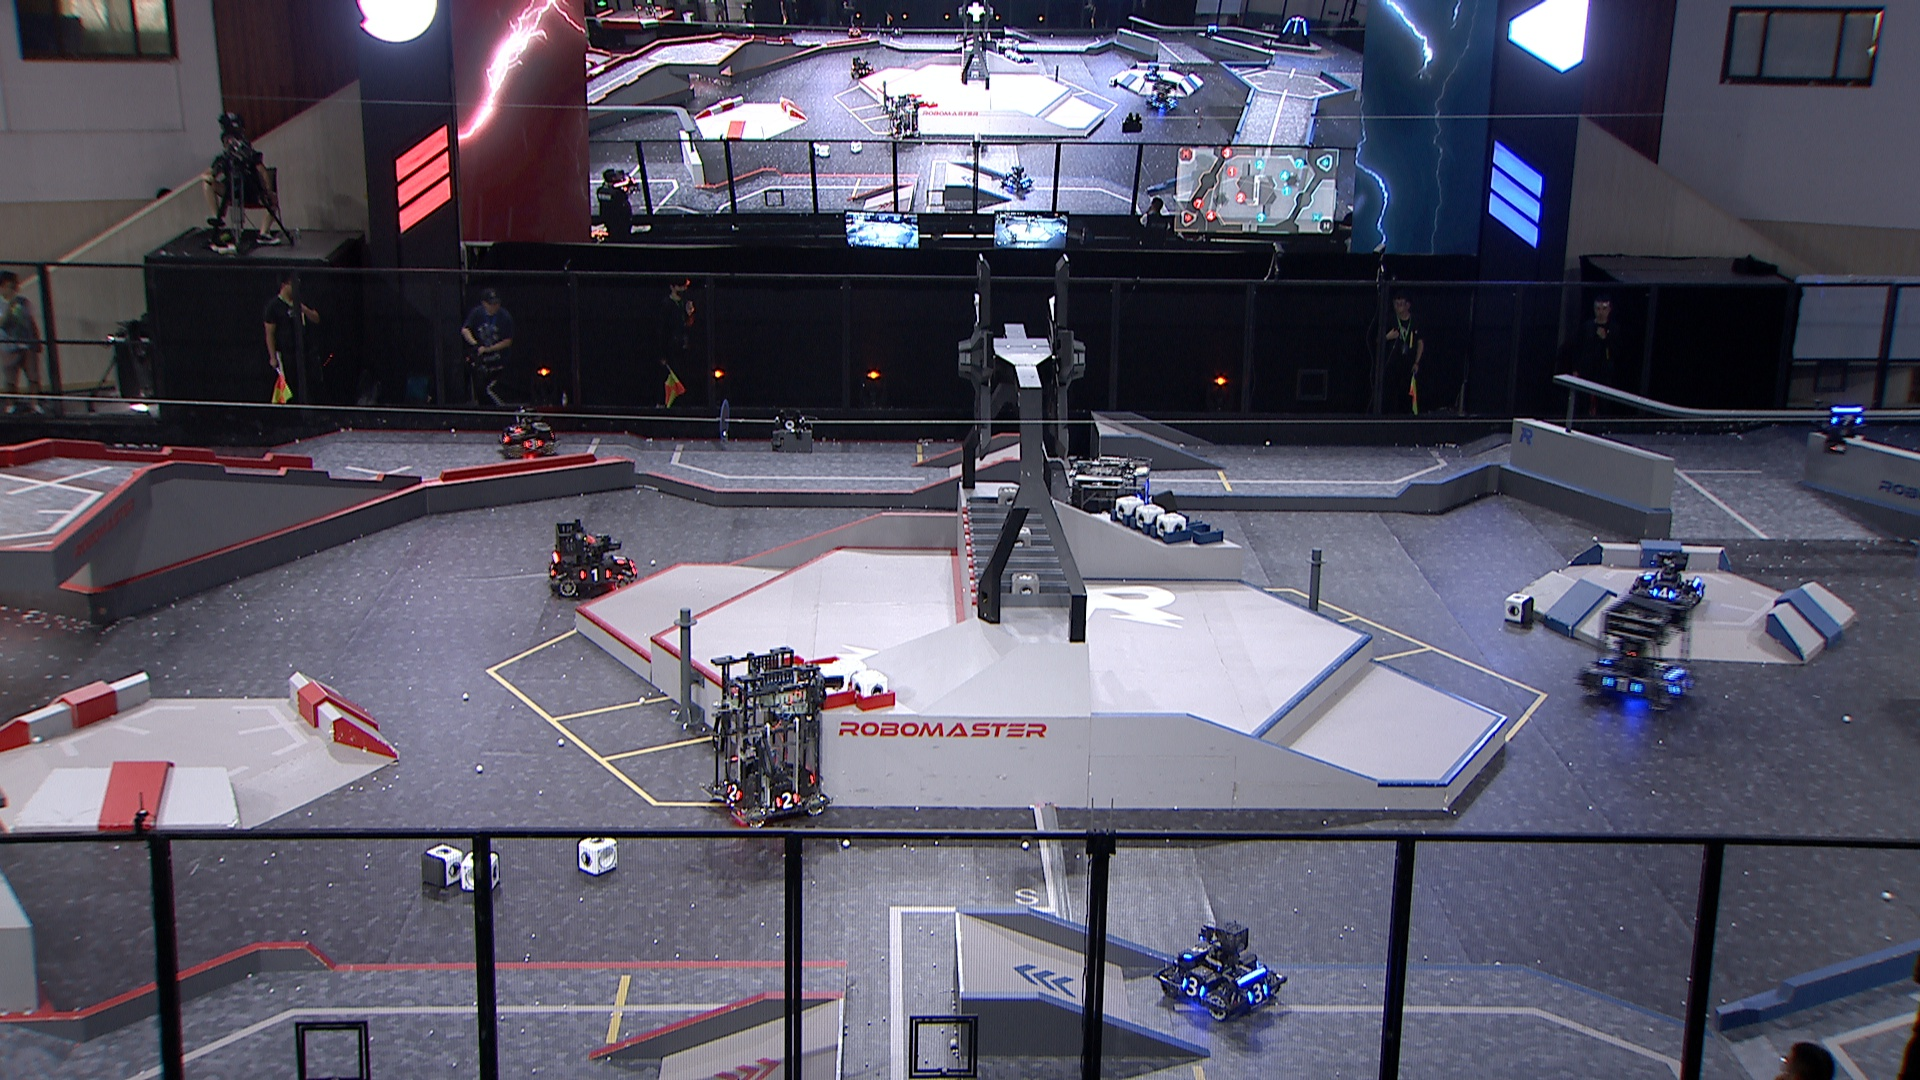armor: (1604, 675, 1640, 694), (1178, 975, 1207, 996), (579, 567, 612, 585), (774, 789, 800, 808), (1665, 676, 1689, 698), (724, 779, 744, 804), (1832, 413, 1865, 427), (1247, 982, 1269, 1005), (1185, 942, 1207, 960), (1651, 585, 1673, 603), (1638, 567, 1654, 584), (527, 436, 542, 454), (1693, 584, 1705, 603), (611, 553, 626, 564), (1602, 651, 1615, 665), (508, 425, 522, 436), (498, 433, 508, 444)
car: (699, 645, 832, 829), (1150, 916, 1288, 1021), (1580, 593, 1697, 709), (1060, 448, 1168, 550), (545, 517, 640, 595), (1629, 545, 1709, 609), (493, 405, 556, 462)
ignore: (884, 88, 923, 145), (1275, 12, 1316, 47), (1001, 164, 1035, 196), (1147, 80, 1178, 115), (603, 166, 637, 195), (847, 54, 876, 80), (1138, 61, 1164, 83), (1201, 21, 1220, 40), (847, 22, 862, 38)
watcher: (1817, 392, 1870, 455)
